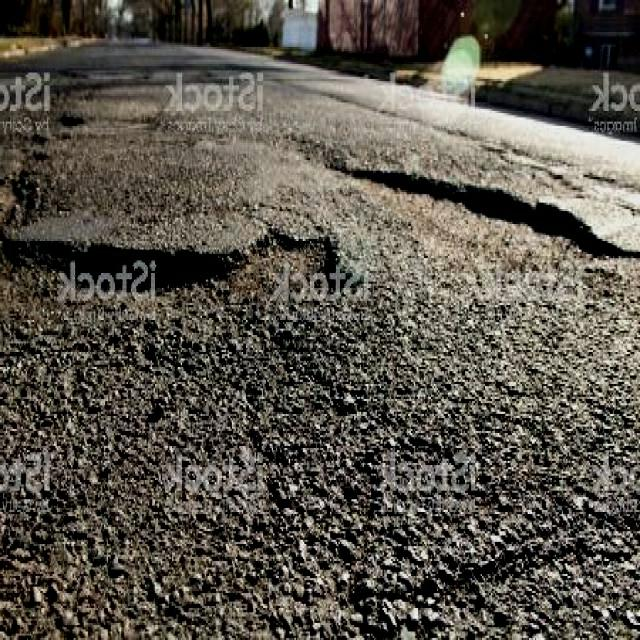Pothole: (333, 156, 631, 290), (1, 224, 348, 320)
